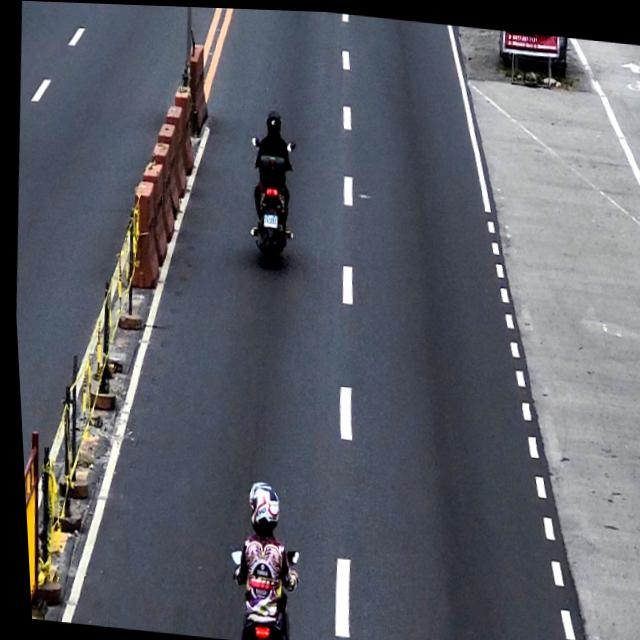License-Plate: (259, 212, 276, 226)
Motorcycle: (242, 129, 299, 267)
